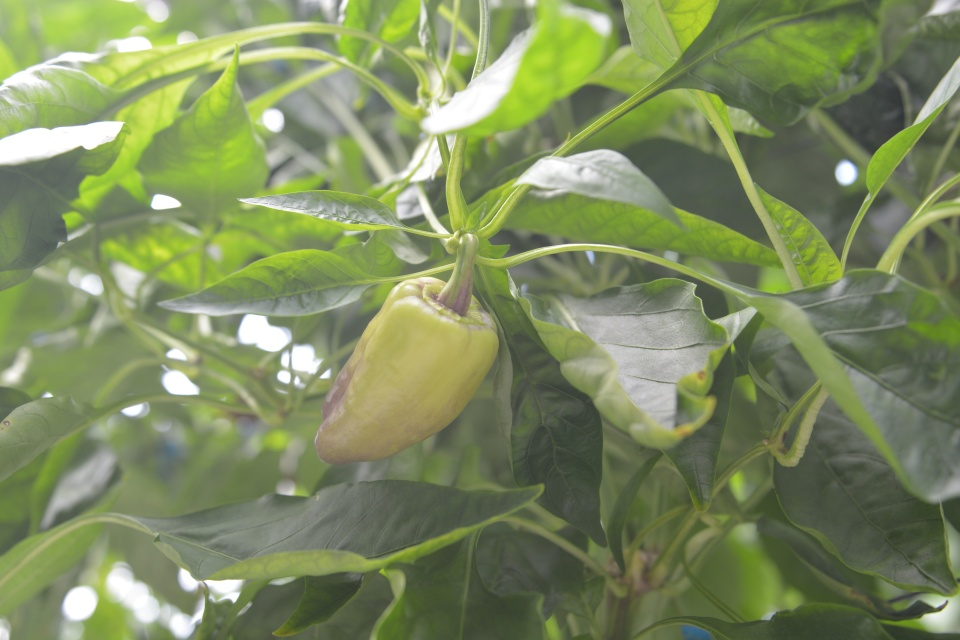immature: (310, 274, 501, 467)
